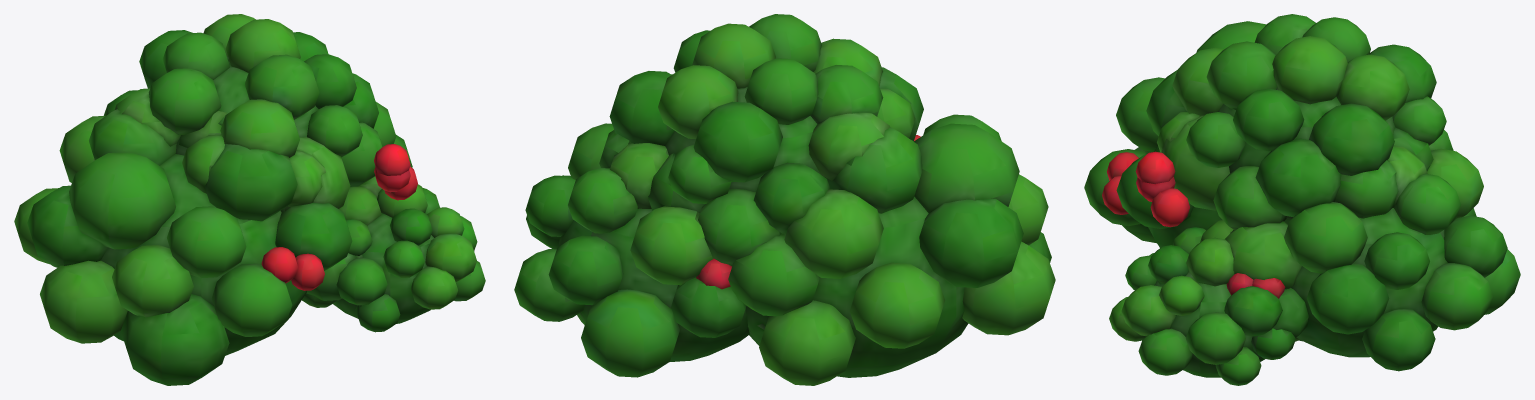
Rendered from bush_obs1.glb.
The picture shows the model from 3 angles, left to right: view 1: azimuth 30°, elevation 25°; view 2: azimuth 150°, elevation 25°; view 3: azimuth 270°, elevation 25°; orthographic projection. The views are drawn at different scales.
Visible parts, largest first — view 1: bush_obs1; view 2: bush_obs1; view 3: bush_obs1.
Part boxes in pixels (x1,y1,x2,y2): bush_obs1: (14,14,485,385); bush_obs1: (514,14,1055,385); bush_obs1: (1084,14,1520,385).
Bounding box in the file's own units: 0.758 × 0.5042 × 0.6604.
Materials: 1 (1 with a texture image).
